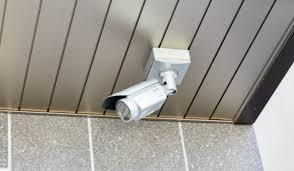tutu: (99, 77, 172, 126)
